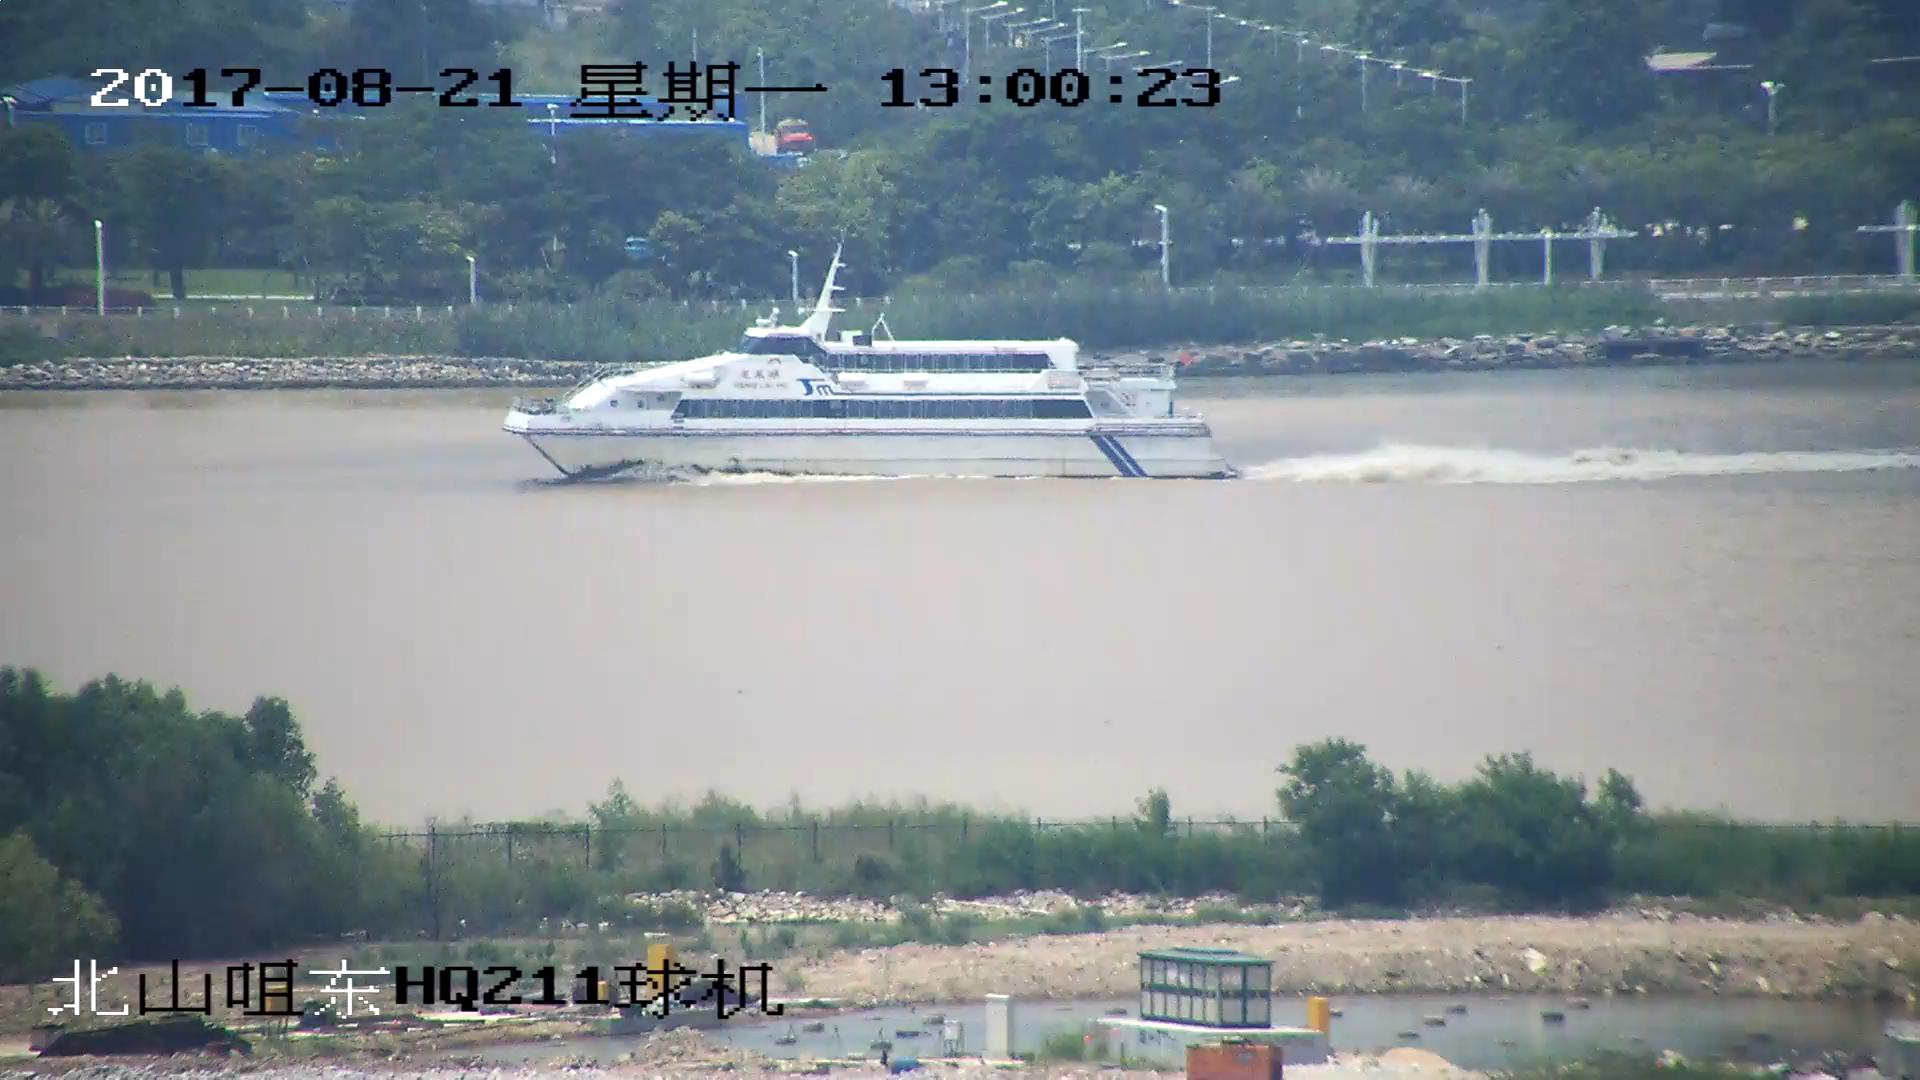passenger ship: (504, 245, 1236, 489)
